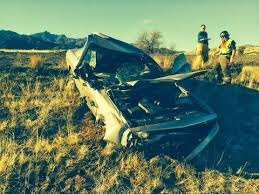Smashed: (66, 34, 221, 151)
